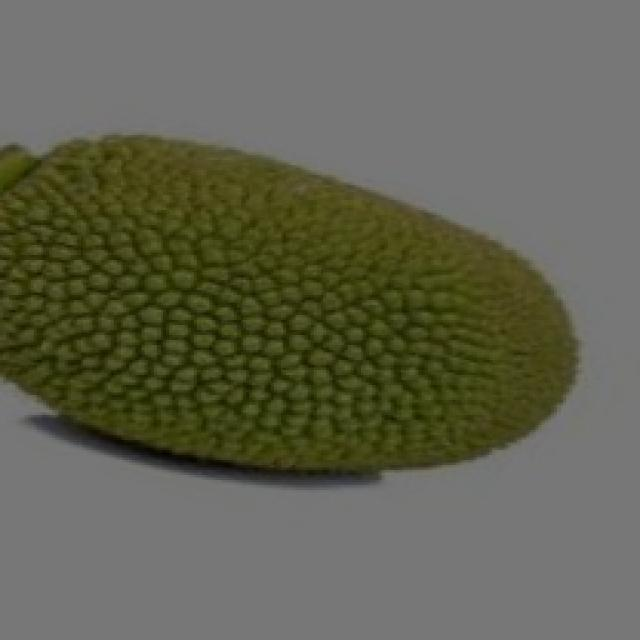Fruit: (0, 110, 406, 502), (255, 128, 603, 508)
